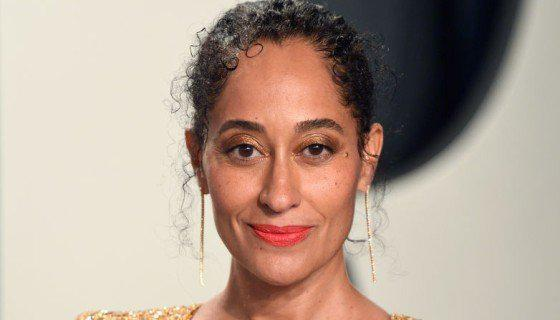Sober: (215, 59, 347, 273)
